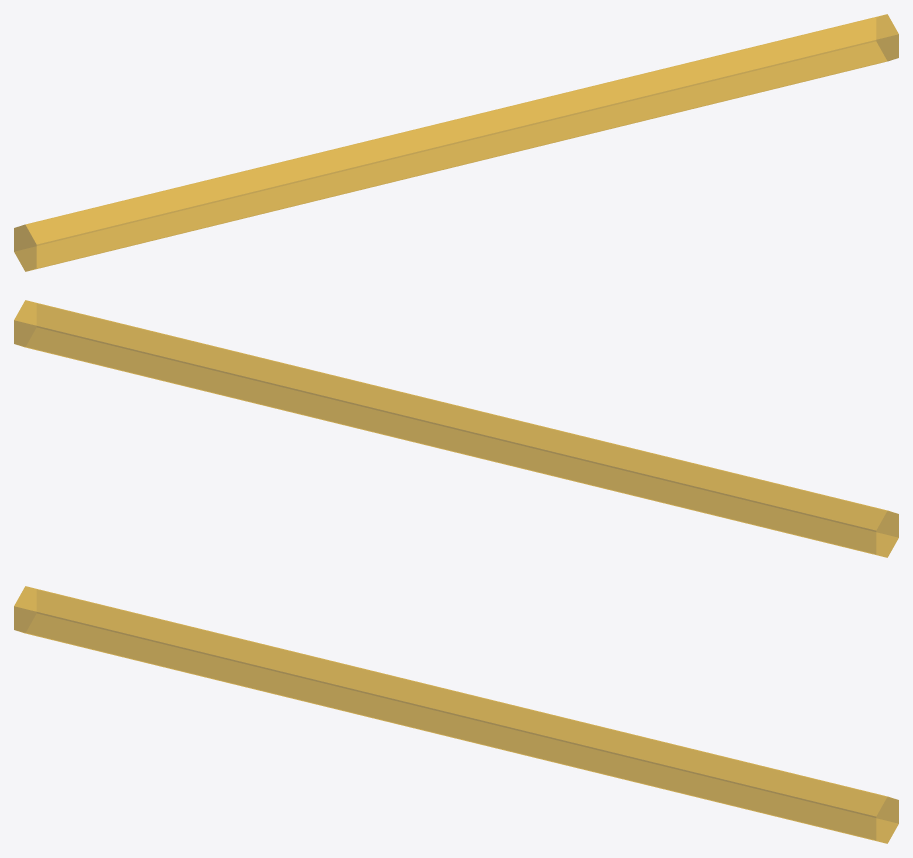
Rendered from SM_Veh_Ship_M_Mast_Front_01_Boom_01_Collision.fbx.
3 renders of one model, top to bottom at view 1: azimuth 30°, elevation 25°; view 2: azimuth 150°, elevation 25°; view 3: azimuth 330°, elevation 25°, orthographic.
Parts seen in each view (by area): view 1: SM_Veh_Ship_M_Mast_Front_01_Boom_01_Collision; view 2: SM_Veh_Ship_M_Mast_Front_01_Boom_01_Collision; view 3: SM_Veh_Ship_M_Mast_Front_01_Boom_01_Collision.
Part boxes in pixels (bbox=[...]): SM_Veh_Ship_M_Mast_Front_01_Boom_01_Collision: bbox=[14, 14, 898, 271]; SM_Veh_Ship_M_Mast_Front_01_Boom_01_Collision: bbox=[14, 300, 898, 557]; SM_Veh_Ship_M_Mast_Front_01_Boom_01_Collision: bbox=[14, 586, 898, 843].
Size of the model in its own units: 1410 by 74.2 by 64.26.
